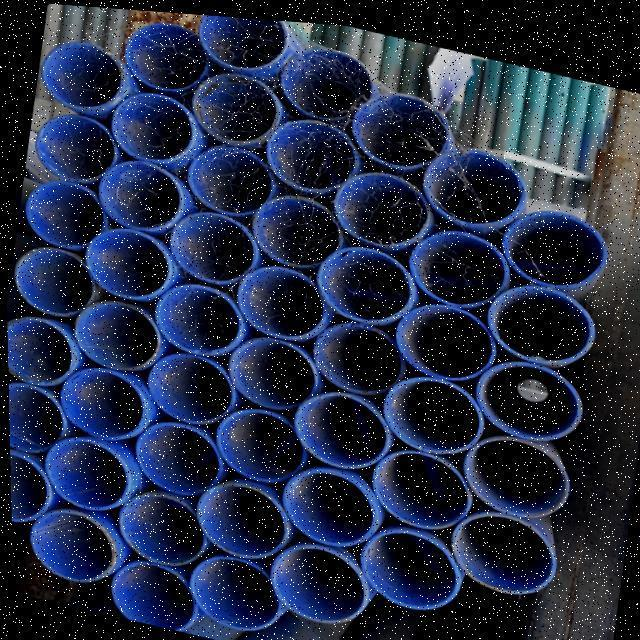pipe: (422, 127, 523, 218), (447, 502, 553, 586), (458, 429, 566, 509), (489, 274, 593, 357), (504, 200, 605, 283), (181, 541, 276, 628), (370, 442, 472, 523), (276, 35, 369, 123), (357, 523, 459, 603), (275, 533, 373, 616), (471, 352, 575, 429), (328, 162, 429, 241), (349, 82, 447, 163), (294, 380, 391, 461), (391, 295, 491, 373), (381, 366, 481, 444), (190, 476, 287, 555), (312, 240, 411, 317), (285, 457, 377, 539), (408, 222, 503, 301), (114, 485, 204, 564), (58, 362, 149, 439), (311, 313, 401, 390), (262, 113, 355, 187), (214, 403, 304, 479), (166, 208, 256, 284), (227, 329, 316, 405), (133, 418, 219, 496), (107, 551, 194, 628), (143, 346, 231, 422), (253, 191, 344, 264), (232, 260, 319, 336), (73, 294, 159, 370), (190, 69, 278, 143), (153, 278, 239, 353), (47, 435, 130, 511), (84, 229, 172, 300), (183, 141, 271, 210), (122, 19, 208, 89), (28, 509, 109, 582), (100, 157, 184, 227), (111, 93, 194, 162), (43, 40, 125, 108), (25, 180, 106, 248), (34, 115, 116, 182), (12, 246, 91, 315), (194, 12, 286, 66), (6, 315, 70, 384), (7, 381, 63, 455), (8, 453, 47, 525)
